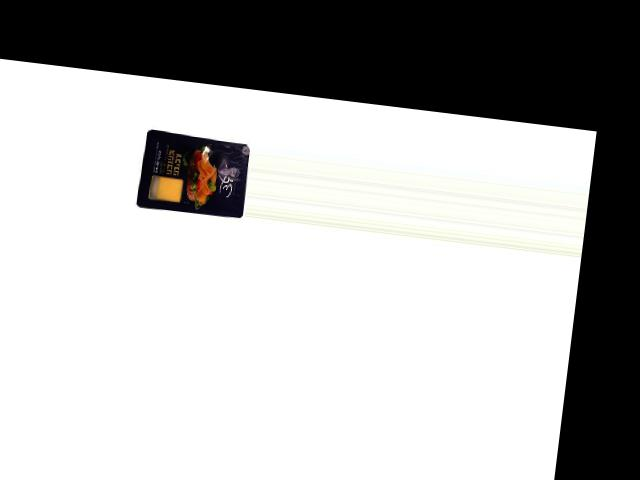cheese: (136, 126, 253, 219)
